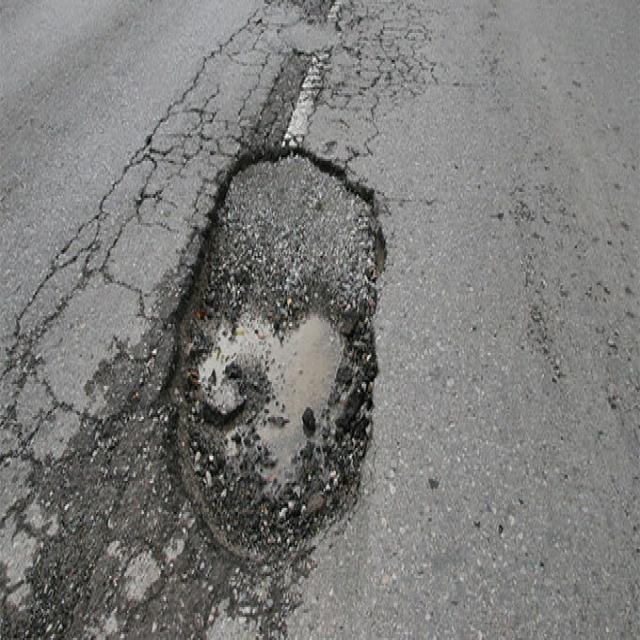Pothole: (126, 109, 439, 603)
